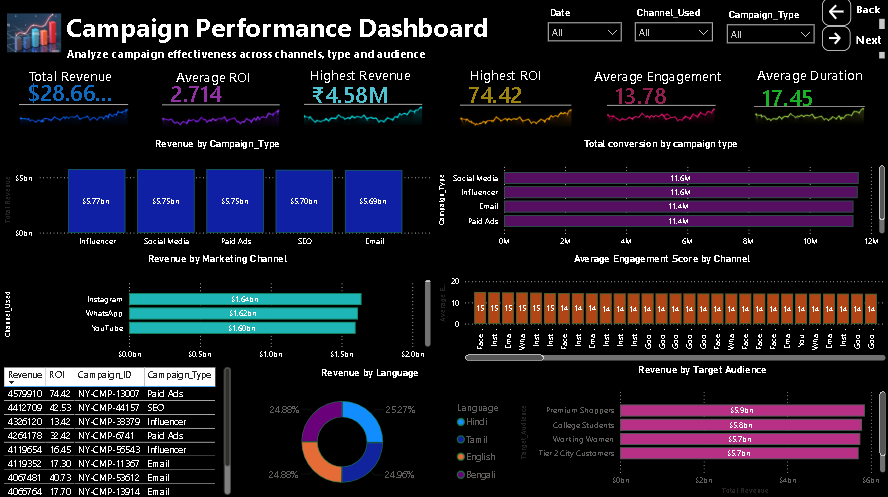

This screenshot's page, from the dashboard's own definition file:
{"tool":"powerbi","page":{"name":"Campaign Performance","canvas":[1280,720],"ordinal":1},"visuals":[{"type":"textbox","box":[0,93.6,203,112.3],"z":0},{"type":"textbox","box":[0,0,1278.9,94.4],"z":1000},{"type":"cardVisual","fields":{"Data":["marketing_campaign_cleaned.Total Revenue"]},"box":[10.1,97.9,193,109.4],"z":2000},{"type":"textbox","box":[203,95,209.3,115.6],"z":3000},{"type":"textbox","box":[411.8,92.2,214.6,115.2],"z":4000},{"type":"textbox","box":[830.9,93.6,223.2,113.8],"z":5000},{"type":"textbox","box":[1054.1,92.2,224.6,115.2],"z":6000},{"type":"textbox","box":[626.4,92.2,204.5,115.2],"z":7000},{"type":"cardVisual","fields":{"Data":["marketing_campaign_cleaned.Average ROI"]},"box":[216,99.4,204.5,108],"z":8000},{"type":"cardVisual","fields":{"Data":["marketing_campaign_cleaned.Highest Revenue"]},"box":[420.5,103.7,205.9,97.9],"z":9000},{"type":"cardVisual","fields":{"Data":["marketing_campaign_cleaned.Highest ROI"]},"box":[645.1,100.8,195.8,106.6],"z":10000},{"type":"cardVisual","fields":{"Data":["marketing_campaign_cleaned.Average Engagement"]},"box":[856.8,105.1,191.5,97.9],"z":11000},{"type":"cardVisual","fields":{"Data":["marketing_campaign_cleaned.Average Duration"]},"box":[1068.5,108,194.4,95],"z":12000},{"type":"clusteredBarChart","title":"Revenue by Marketing Channel","fields":{"Category":["marketing_campaign_cleaned.Channel_Used"],"Y":["marketing_campaign_cleaned.Total Revenue"]},"box":[0,367.2,625,162.7],"z":13000},{"type":"clusteredColumnChart","title":"Revenue by Campaign_Type","fields":{"Category":["marketing_campaign_cleaned.Campaign_Type"],"Y":["marketing_campaign_cleaned.Total Revenue"]},"box":[0,201.6,626.3,165.4],"z":14000},{"type":"clusteredBarChart","title":"Total conversion by campaign type","fields":{"Category":["marketing_campaign_cleaned.Campaign_Type"],"Y":["marketing_campaign_cleaned.Total Conversions"]},"box":[625,201.6,654.1,165.4],"z":15000},{"type":"donutChart","title":"Revenue by Language","fields":{"Category":["marketing_campaign_cleaned.Language"],"Y":["marketing_campaign_cleaned.Total Revenue"]},"box":[322.6,531.4,420.5,188.6],"z":16000},{"type":"tableEx","fields":{"Values":["marketing_campaign_cleaned.Revenue","marketing_campaign_cleaned.ROI","marketing_campaign_cleaned.Campaign_ID","marketing_campaign_cleaned.Campaign_Type"]},"box":[0,527,337,193],"z":17000},{"type":"slicer","fields":{"Values":["marketing_campaign_cleaned.Date"]},"box":[778.5,7.3,125.9,93.7],"z":18000},{"type":"slicer","fields":{"Values":["marketing_campaign_cleaned.Channel_Used"]},"box":[904.4,7.3,131.7,93.7],"z":19000},{"type":"slicer","fields":{"Values":["marketing_campaign_cleaned.Campaign_Type"]},"box":[1036.1,10.2,146.3,93.7],"z":20000},{"type":"actionButton","box":[1183.7,40.3,40.7,35.7],"z":21000},{"type":"textbox","box":[1228.8,45,51.4,32.9],"z":22000},{"type":"image","box":[10,7.8,78.3,86.7],"z":23000},{"type":"barChart","title":"Revenue by Target Audience","fields":{"Category":["marketing_campaign_cleaned.Target_Audience"],"Y":["marketing_campaign_cleaned.Total Revenue"]},"box":[743,527,537.1,193],"z":33000},{"type":"columnChart","title":"Average Engagement Score by Channel","fields":{"Category":["marketing_campaign_cleaned.Channel_Used"],"Y":["marketing_campaign_cleaned.Average Engagement"]},"box":[626.4,367.2,653.8,159.8],"z":34000},{"type":"actionButton","box":[1183.7,0,41.8,40.3],"z":41000},{"type":"textbox","box":[1228.3,0,51.2,30],"z":42000}]}

Visuals, with their boxes in screenshot pixels (x1, y1, x2, y2), scaled from the page's 1280x720 canvas onto the 888x497 screenshot:
textbox: left=0, top=65, right=141, bottom=142
textbox: left=0, top=0, right=887, bottom=65
cardVisual - marketing_campaign_cleaned.Total Revenue: left=7, top=68, right=141, bottom=143
textbox: left=141, top=66, right=286, bottom=145
textbox: left=286, top=64, right=435, bottom=143
textbox: left=576, top=65, right=731, bottom=143
textbox: left=731, top=64, right=887, bottom=143
textbox: left=435, top=64, right=576, bottom=143
cardVisual - marketing_campaign_cleaned.Average ROI: left=150, top=69, right=292, bottom=143
cardVisual - marketing_campaign_cleaned.Highest Revenue: left=292, top=72, right=435, bottom=139
cardVisual - marketing_campaign_cleaned.Highest ROI: left=448, top=70, right=583, bottom=143
cardVisual - marketing_campaign_cleaned.Average Engagement: left=594, top=73, right=727, bottom=140
cardVisual - marketing_campaign_cleaned.Average Duration: left=741, top=75, right=876, bottom=140
"Revenue by Marketing Channel" clusteredBarChart: left=0, top=253, right=434, bottom=366
"Revenue by Campaign_Type" clusteredColumnChart: left=0, top=139, right=434, bottom=253
"Total conversion by campaign type" clusteredBarChart: left=434, top=139, right=887, bottom=253
"Revenue by Language" donutChart: left=224, top=367, right=516, bottom=496
tableEx - marketing_campaign_cleaned.Revenue x marketing_campaign_cleaned.ROI: left=0, top=364, right=234, bottom=496
slicer - marketing_campaign_cleaned.Date: left=540, top=5, right=627, bottom=70
slicer - marketing_campaign_cleaned.Channel_Used: left=627, top=5, right=719, bottom=70
slicer - marketing_campaign_cleaned.Campaign_Type: left=719, top=7, right=820, bottom=72
actionButton: left=821, top=28, right=849, bottom=52
textbox: left=852, top=31, right=887, bottom=54
image: left=7, top=5, right=61, bottom=65
"Revenue by Target Audience" barChart: left=515, top=364, right=887, bottom=496
"Average Engagement Score by Channel" columnChart: left=435, top=253, right=887, bottom=364
actionButton: left=821, top=0, right=850, bottom=28
textbox: left=852, top=0, right=887, bottom=21
